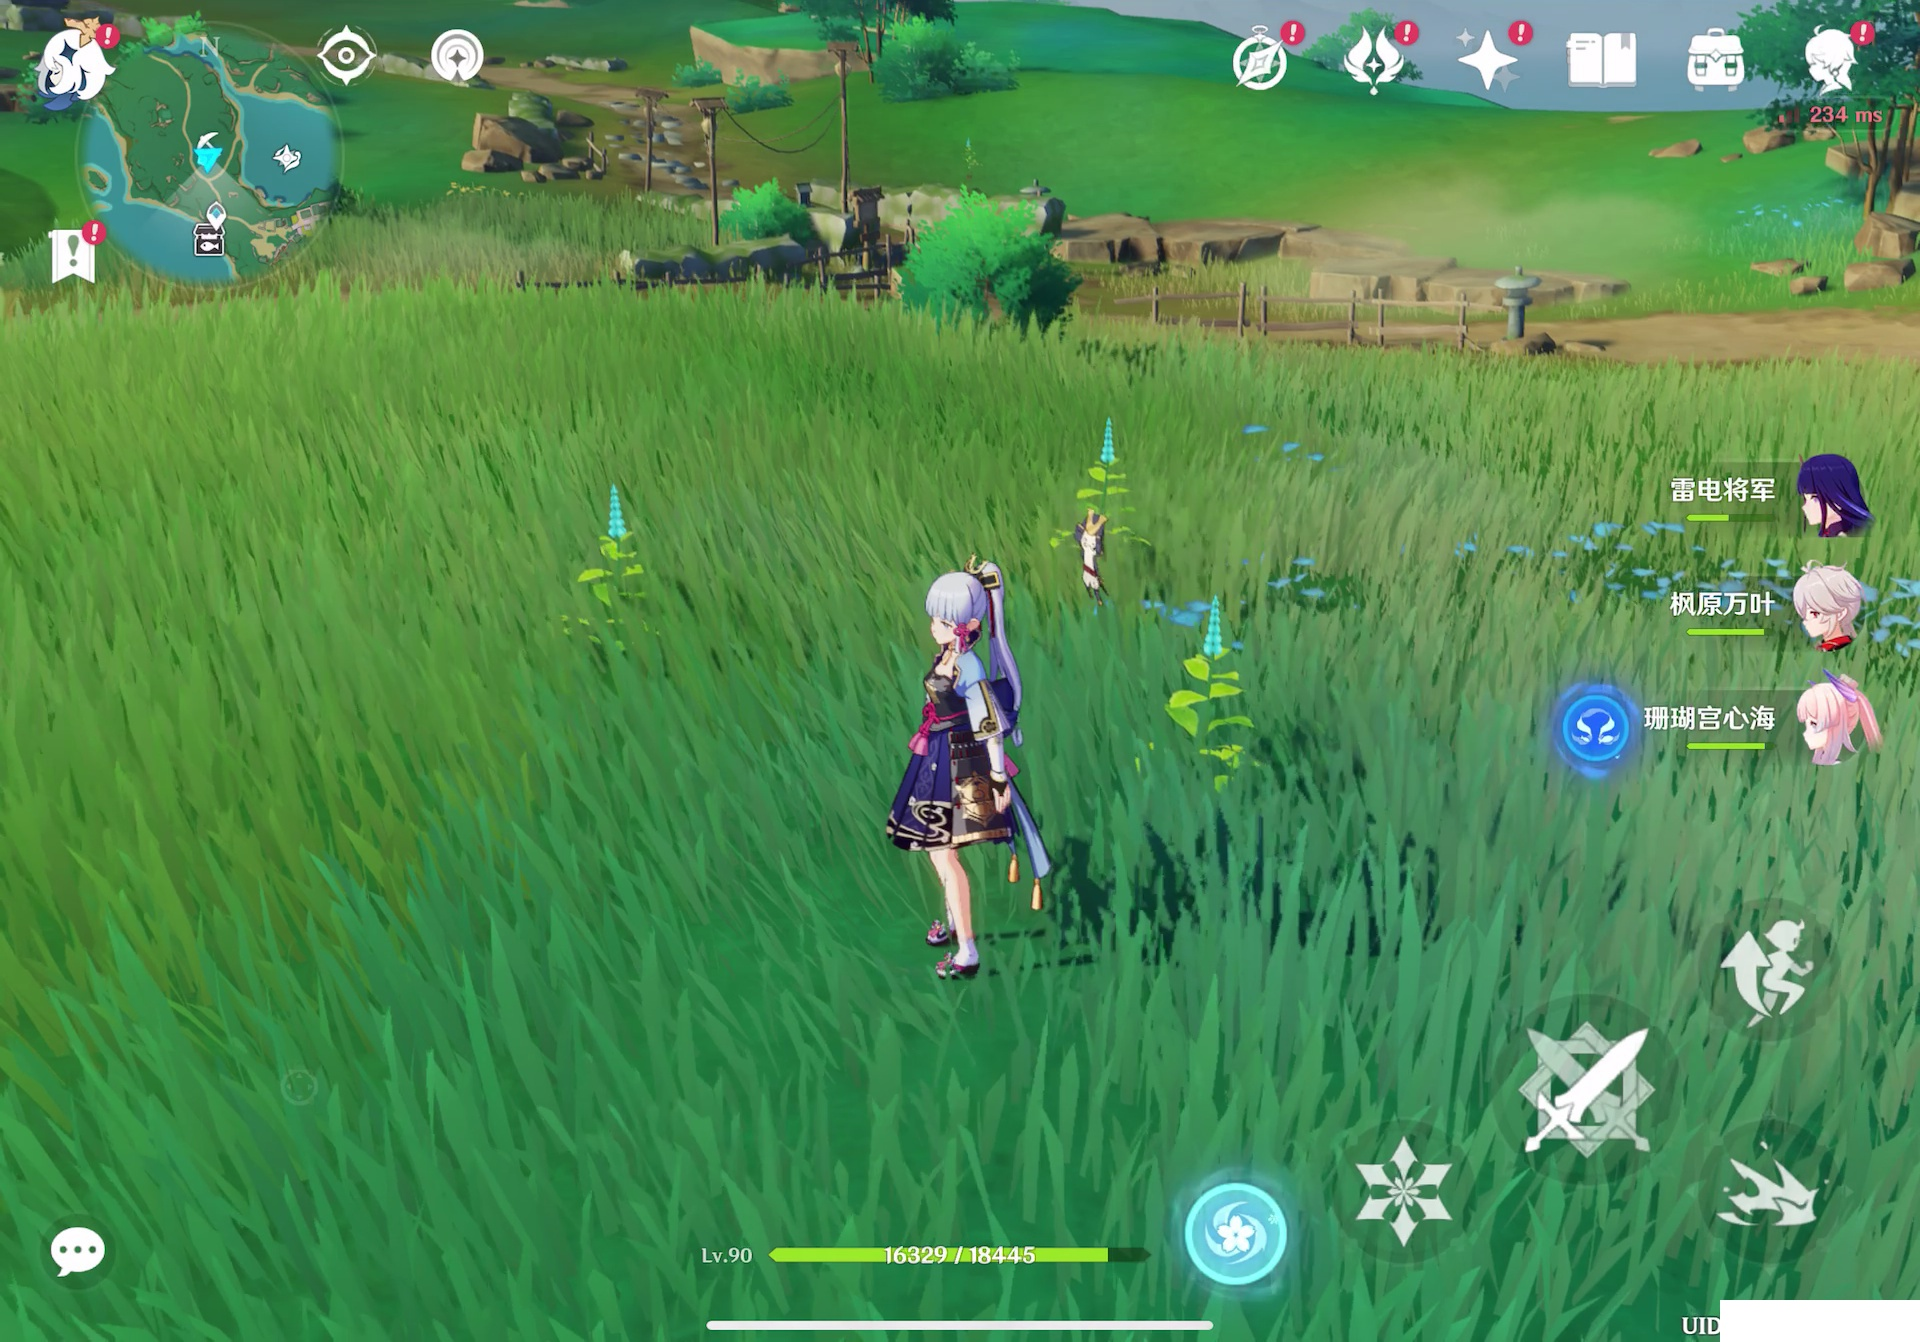没用的薄荷: (1151, 586, 1263, 783), (559, 478, 665, 672), (1061, 416, 1145, 516)
神里绫龟: (878, 551, 1065, 980)
